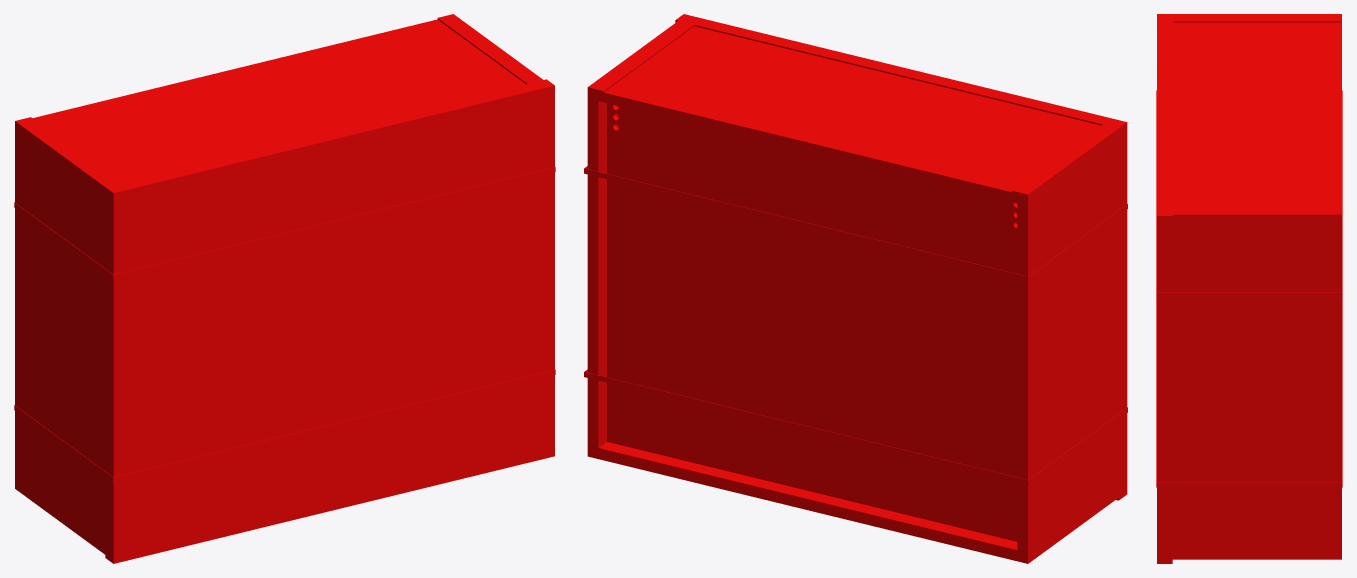
Rendered from haut rouge.glb.
The picture shows the model from 3 angles, left to right: view 1: azimuth 30°, elevation 25°; view 2: azimuth 150°, elevation 25°; view 3: azimuth 270°, elevation 25°; orthographic projection. The views are drawn at different scales.
Visible parts, largest first — view 1: Part 4, Part 3 (×2), Part 1, Part 5 (×2); view 2: Part 1, Part 3 (×2), Part 5 (×2), Part 4, Part 2; view 3: Part 3 (×2), Part 1, Part 4, Part 5 (×2).
Boxes of the visible parts, x1,y1,x2,y2 form: Part 4: (105, 79, 554, 563); Part 3 (×2): (15, 14, 550, 559); Part 1: (33, 19, 525, 182); Part 5 (×2): (14, 167, 555, 482); Part 1: (589, 26, 1100, 561); Part 3 (×2): (587, 15, 1126, 563); Part 5 (×2): (584, 166, 1127, 485); Part 4: (675, 14, 1127, 500); Part 2: (603, 459, 1026, 563); Part 3 (×2): (1158, 14, 1341, 559); Part 1: (1172, 22, 1341, 207); Part 4: (1157, 14, 1172, 563); Part 5 (×2): (1156, 90, 1342, 487).
Size of the model in its own units: 0.914 by 0.732 by 0.355.
